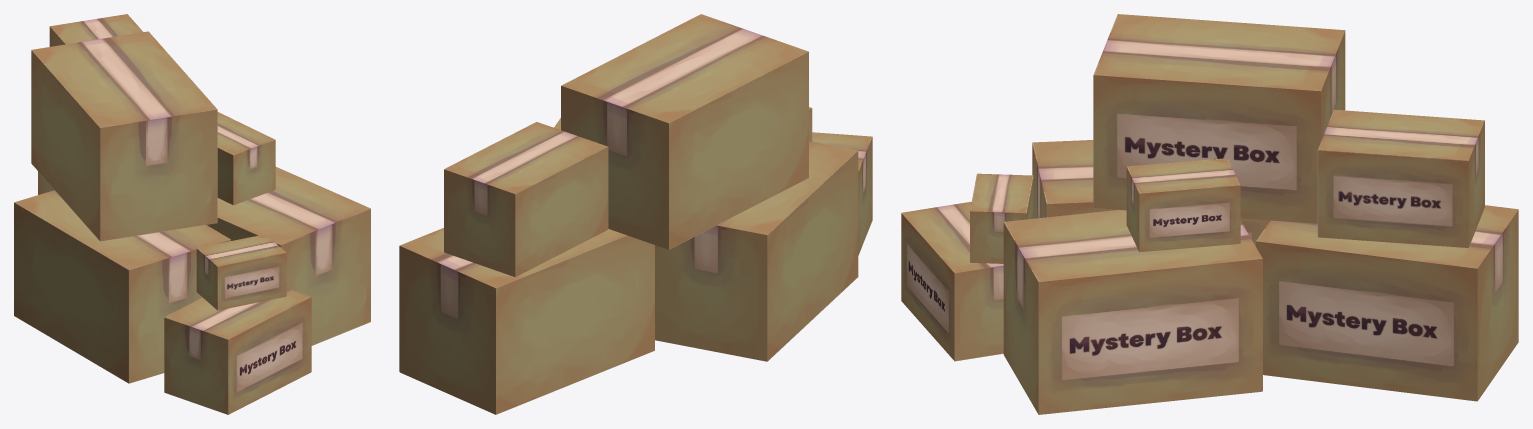
Rendered from Boxs.fbx.
The picture shows the model from 3 angles, left to right: view 1: azimuth 30°, elevation 25°; view 2: azimuth 150°, elevation 25°; view 3: azimuth 270°, elevation 25°; orthographic projection. The views are drawn at different scales.
Parts seen in each view (by area): view 1: Box.004, Box.003, Box.001, Box.008, Box.009, Box.007, Box.006; view 2: Box.004, Box.002, Box.003, Box.006, Box.008; view 3: Box.001, Box.004, Box.002, Box.006, Box.008, Box.007, Box.003, Box.009.
Boxes of the visible parts, x1,y1,x2,y2 form: Box.004: (31, 31, 217, 241); Box.003: (14, 190, 230, 383); Box.001: (206, 167, 370, 345); Box.008: (164, 288, 311, 414); Box.009: (196, 234, 286, 310); Box.007: (217, 112, 275, 205); Box.006: (49, 14, 143, 46); Box.004: (561, 14, 808, 249); Box.002: (399, 228, 654, 414); Box.003: (655, 141, 858, 361); Box.006: (444, 122, 608, 277); Box.008: (812, 132, 872, 255); Box.001: (1003, 210, 1262, 414); Box.004: (1093, 14, 1345, 223); Box.002: (1256, 205, 1518, 401); Box.006: (1317, 109, 1484, 247); Box.008: (901, 201, 1003, 361); Box.007: (1126, 158, 1240, 252); Box.003: (1032, 140, 1269, 246); Box.009: (970, 173, 1033, 263).
Size of the model in its own units: 482 by 401 by 843.
